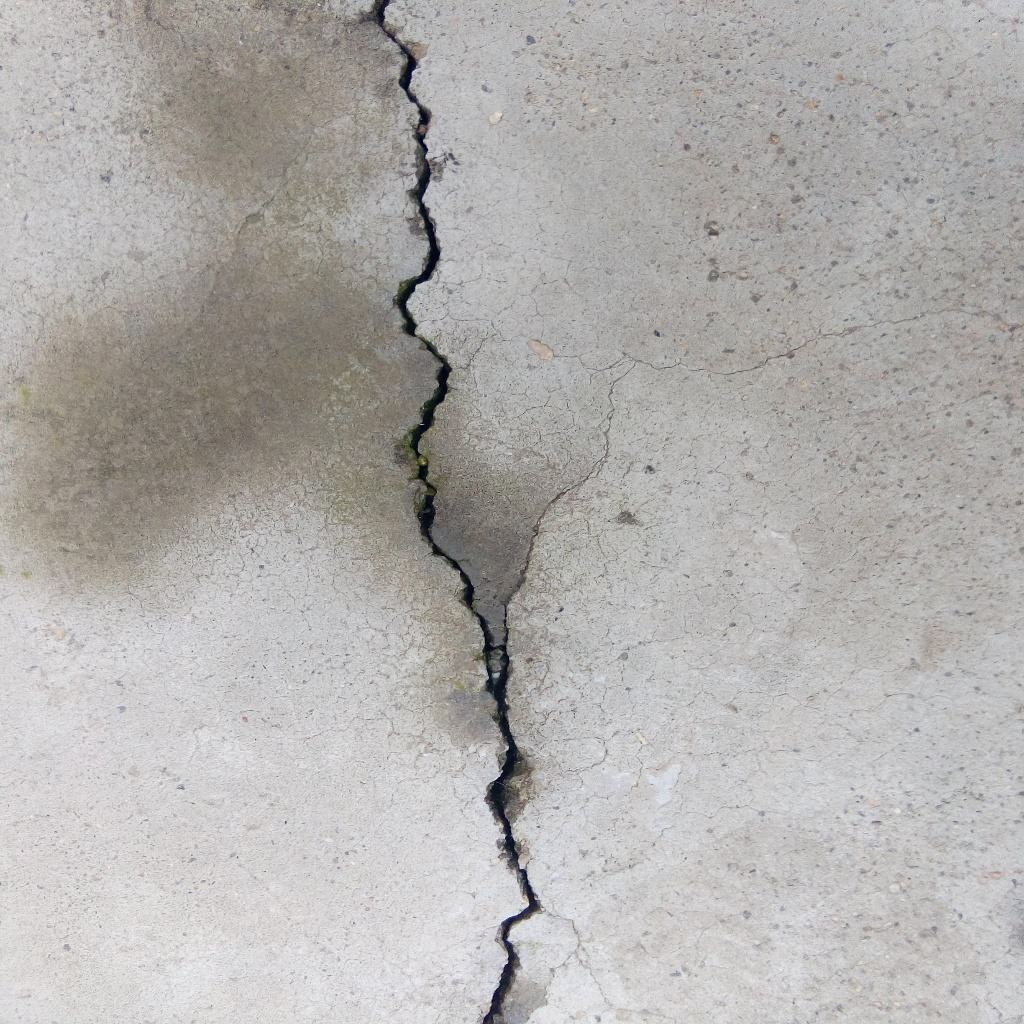Crack: (371, 1, 545, 1024), (500, 361, 631, 689), (631, 309, 1024, 376)
